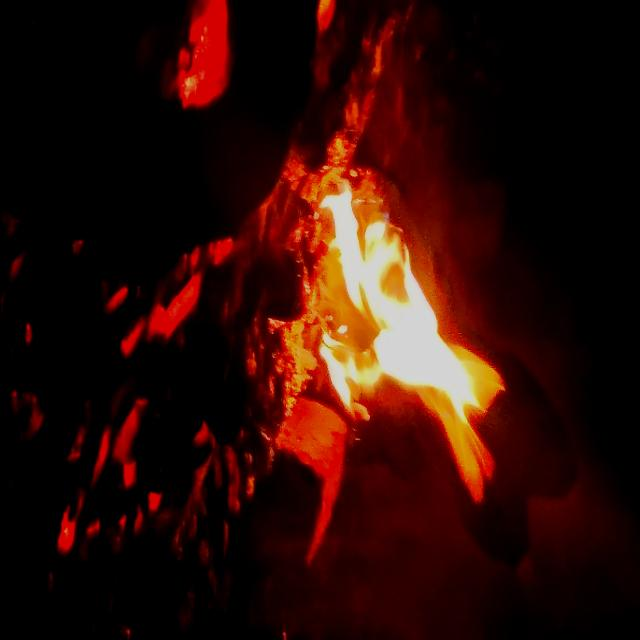firerotation: (318, 174, 510, 508)
